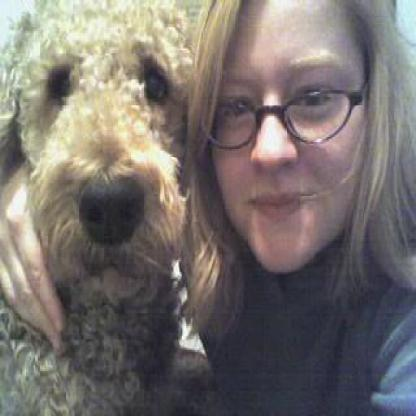dog: (12, 4, 200, 336)
